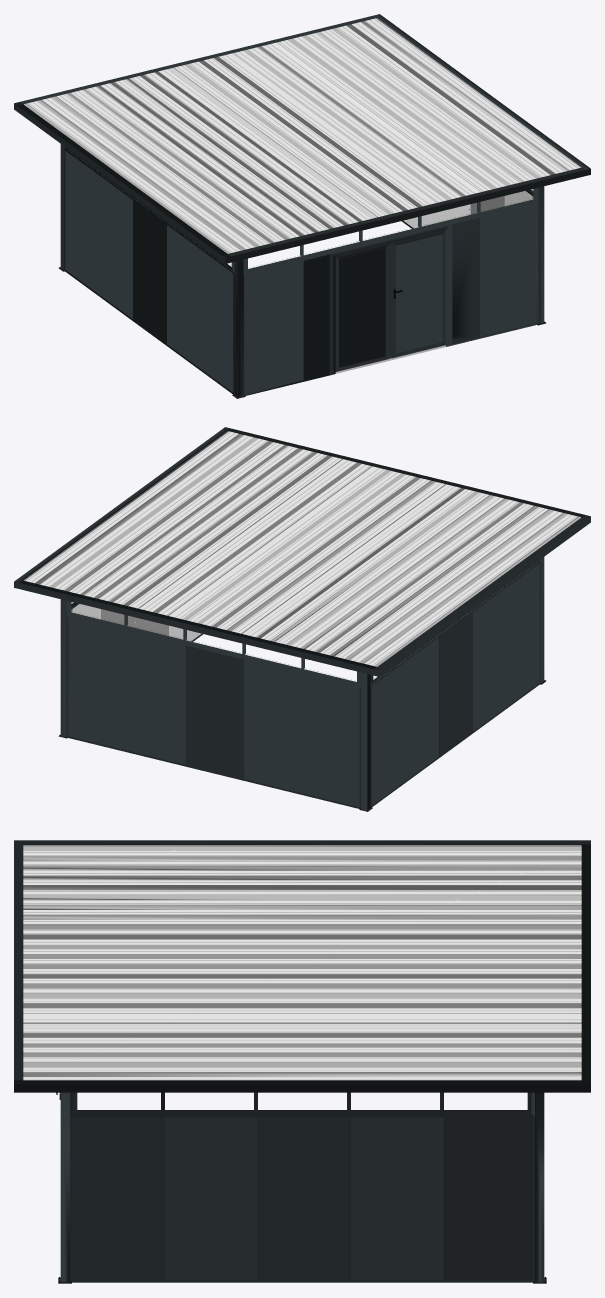
3 renders of one model, top to bottom at view 1: azimuth 30°, elevation 25°; view 2: azimuth 150°, elevation 25°; view 3: azimuth 270°, elevation 25°, orthographic. The views are drawn at different scales.
Visible parts, largest first — view 1: priximbattable_net_abris_de_jardin_640005_abri_de_jardin_mim, folha, folha_2, porta_avec_hublot; view 2: priximbattable_net_abris_de_jardin_640005_abri_de_jardin_mim; view 3: priximbattable_net_abris_de_jardin_640005_abri_de_jardin_mim.
Boxes of the visible parts, left/top/right/bottom form: priximbattable_net_abris_de_jardin_640005_abri_de_jardin_mim: left=14, top=14, right=590, bottom=398; folha: left=335, top=243, right=392, bottom=371; folha_2: left=391, top=230, right=445, bottom=358; porta_avec_hublot: left=329, top=224, right=452, bottom=375; priximbattable_net_abris_de_jardin_640005_abri_de_jardin_mim: left=14, top=427, right=590, bottom=811; priximbattable_net_abris_de_jardin_640005_abri_de_jardin_mim: left=14, top=840, right=590, bottom=1283.
Bounding box in the file's own units: 620 × 259 × 620.
Materials: 1 (1 with a texture image).
